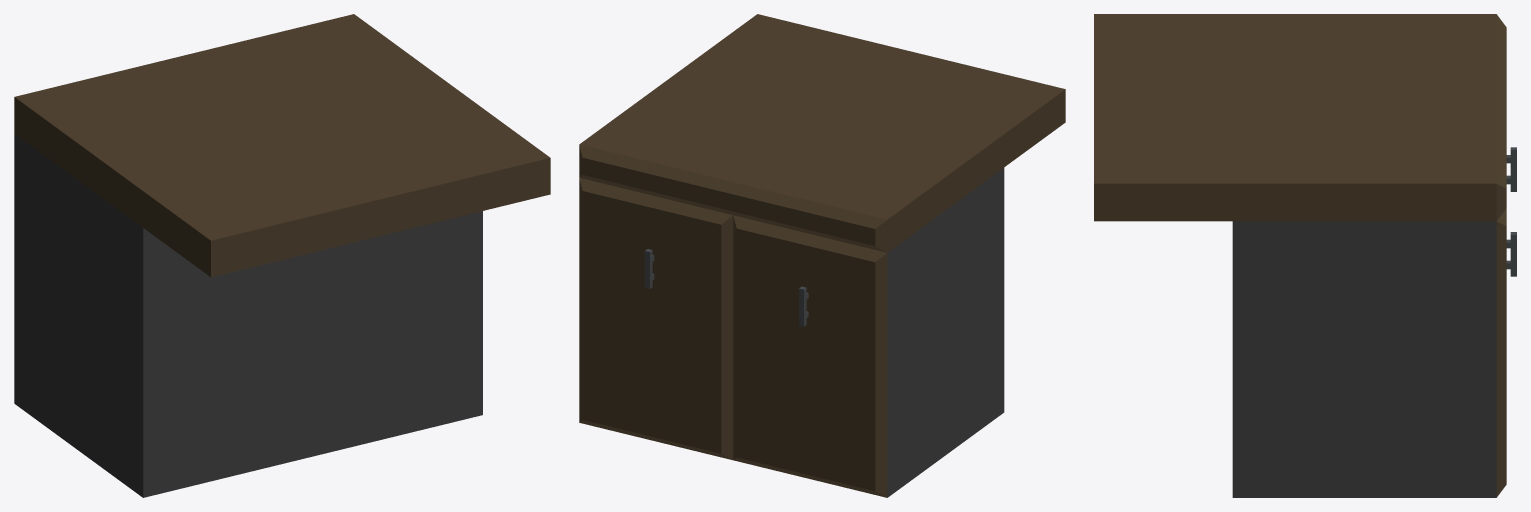
The model's file is PS_Counter02.fbx.
3 renders of one model, left to right at view 1: azimuth 30°, elevation 25°; view 2: azimuth 150°, elevation 25°; view 3: azimuth 270°, elevation 25°, orthographic. The views are drawn at different scales.
Visible parts, largest first — view 1: PS_Counter02; view 2: PS_Counter02; view 3: PS_Counter02.
Boxes of the visible parts, bbox=[...] form: PS_Counter02: bbox=[14, 14, 550, 497]; PS_Counter02: bbox=[579, 14, 1065, 497]; PS_Counter02: bbox=[1094, 14, 1516, 497].
Bounding box in the file's own units: 1 × 0.863 × 1.05.
